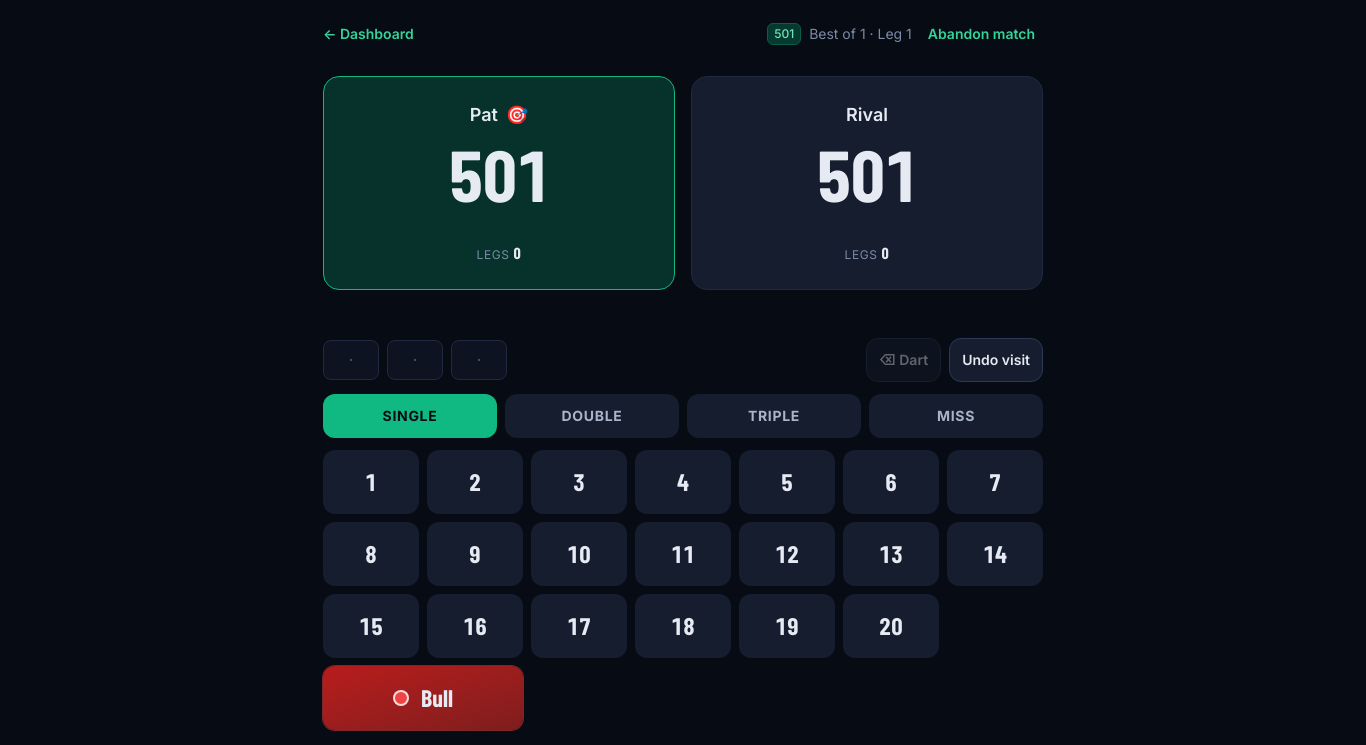
Test case: LiveScoringPage abandon › abandons the match after a confirmation and refreshes the match lists
Step 1. Click the button "Abandon match" → [981, 34], box [920,12,1043,56]
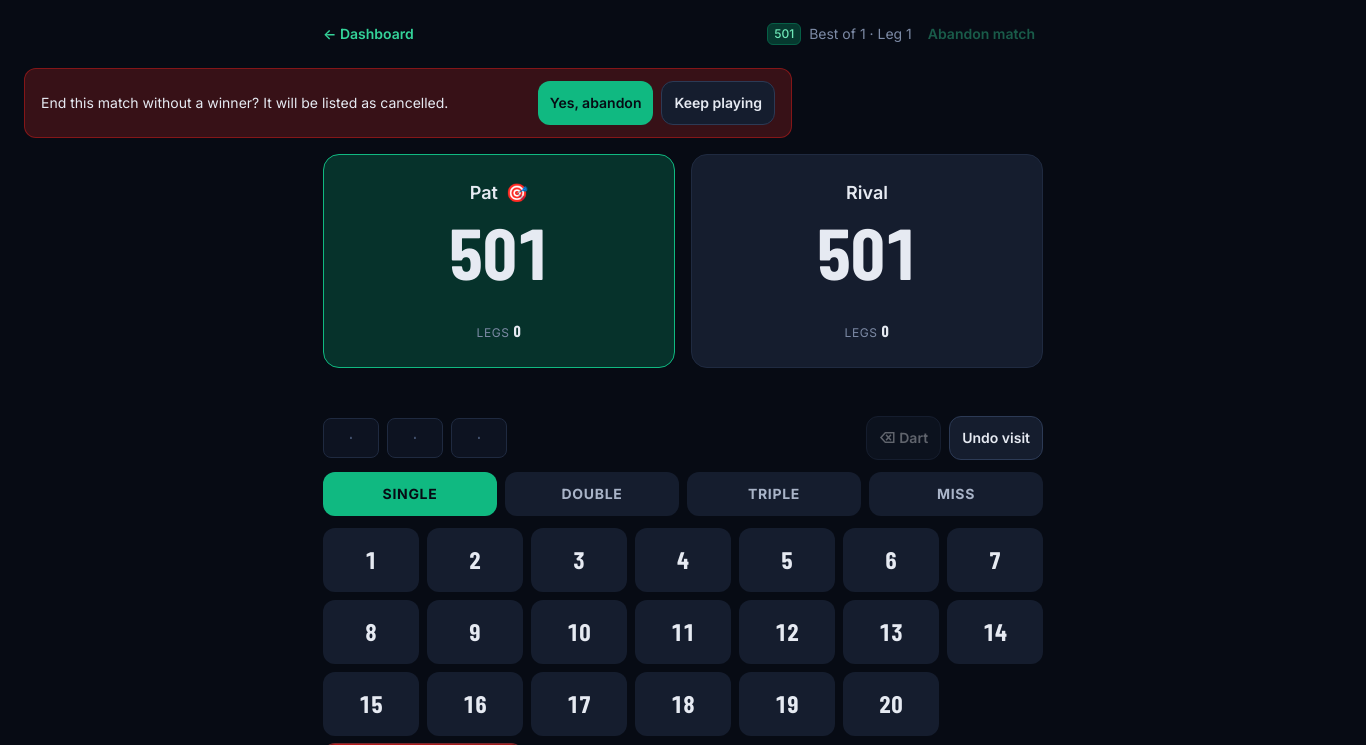
Now the dialog shows "without a winner", box [41,94,448,111]
Step 2. Click the button "Keep playing" → [718, 103], box [662,81,775,125]
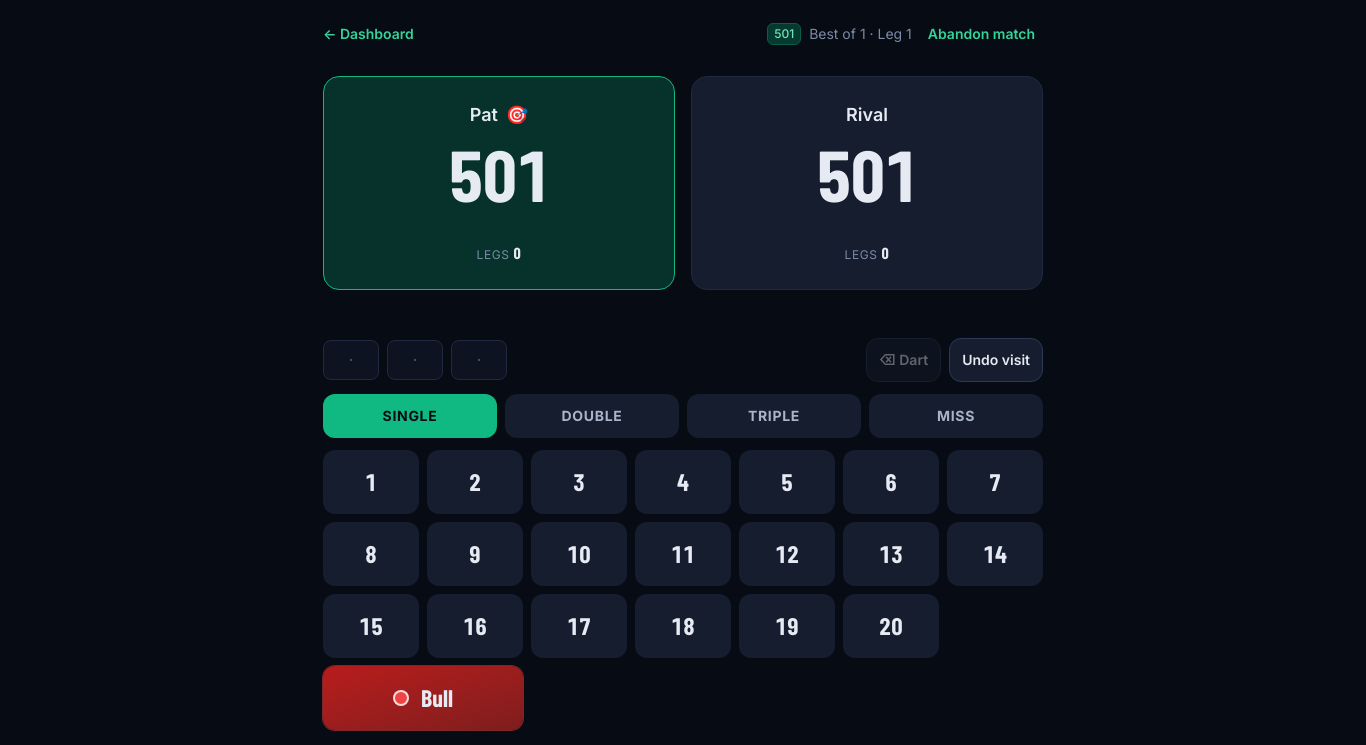
Now the dialog is gone
Step 3. Click the button "Abandon match" → [981, 34], box [920,12,1043,56]
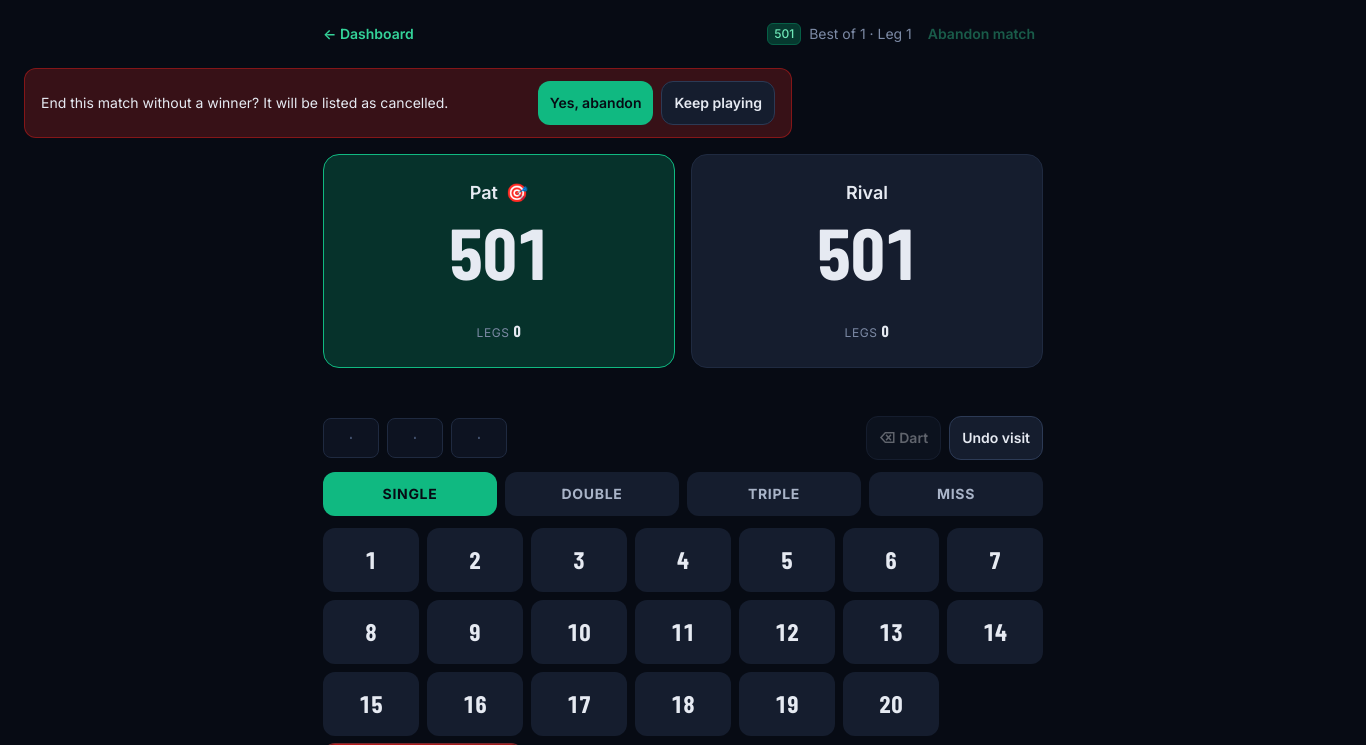
Step 4. Click the button "Yes, abandon" → [596, 103], box [538,81,653,125]
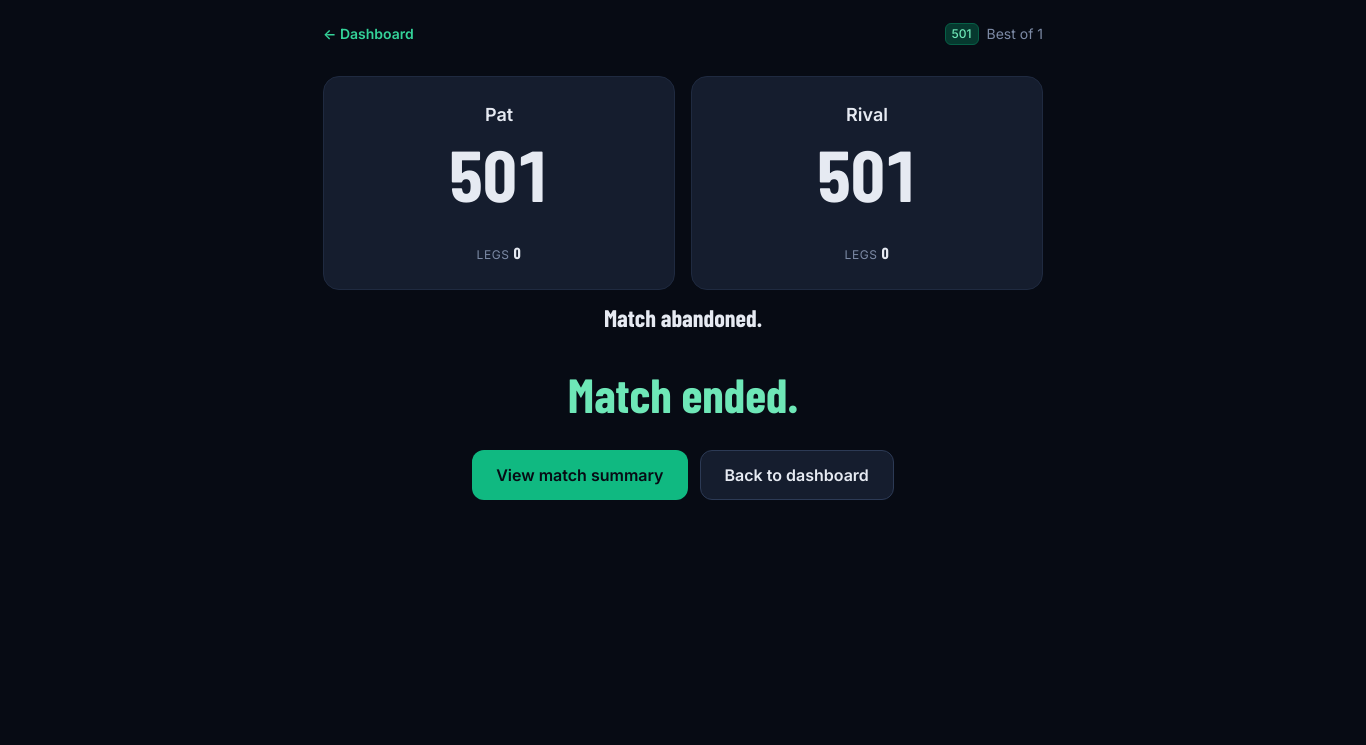
Now the text "Match ended." is shown, box [568,365,798,423]
Now the button "Abandon match" is gone
